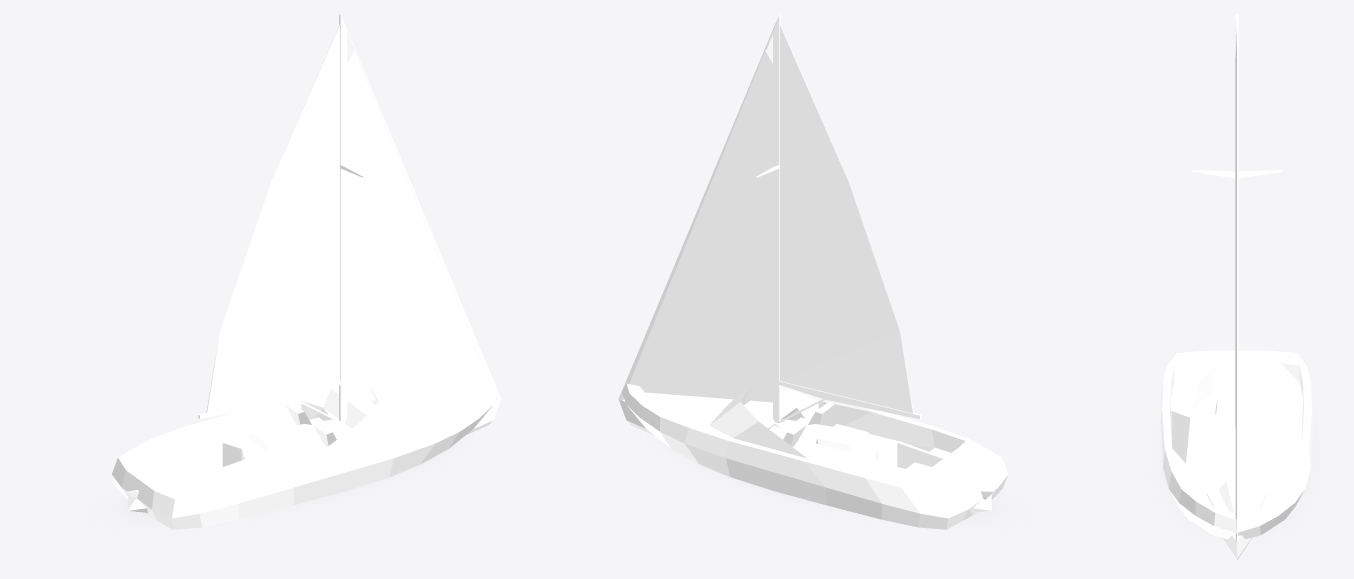
The model's file is AIS_Sailboat-Small-A_001.glb.
3 renders of one model, left to right at view 1: azimuth 30°, elevation 25°; view 2: azimuth 150°, elevation 25°; view 3: azimuth 270°, elevation 25°, orthographic. The views are drawn at different scales.
Parts seen in each view (by area): view 1: AIS_Sailboat-Small-A.001, AIS_PowerBoat-A.001, SurfaceGraphic_whiteGlow.014; view 2: AIS_Sailboat-Small-A.001, AIS_PowerBoat-A.001, SurfaceGraphic_whiteGlow.014; view 3: AIS_PowerBoat-A.001, AIS_Sailboat-Small-A.001.
Boxes of the visible parts, x1=… form: AIS_Sailboat-Small-A.001: x1=128, y1=14, x2=501, y2=512; AIS_PowerBoat-A.001: x1=112, y1=383, x2=497, y2=529; SurfaceGraphic_whiteGlow.014: x1=118, y1=463, x2=423, y2=522; AIS_Sailboat-Small-A.001: x1=618, y1=14, x2=991, y2=512; AIS_PowerBoat-A.001: x1=622, y1=383, x2=1007, y2=529; SurfaceGraphic_whiteGlow.014: x1=694, y1=462, x2=1001, y2=522; AIS_PowerBoat-A.001: x1=1161, y1=350, x2=1312, y2=538; AIS_Sailboat-Small-A.001: x1=1180, y1=14, x2=1293, y2=559.
Size of the model in its own units: 8.34 by 8.13 by 3.22.
2 materials, 1 textured.
